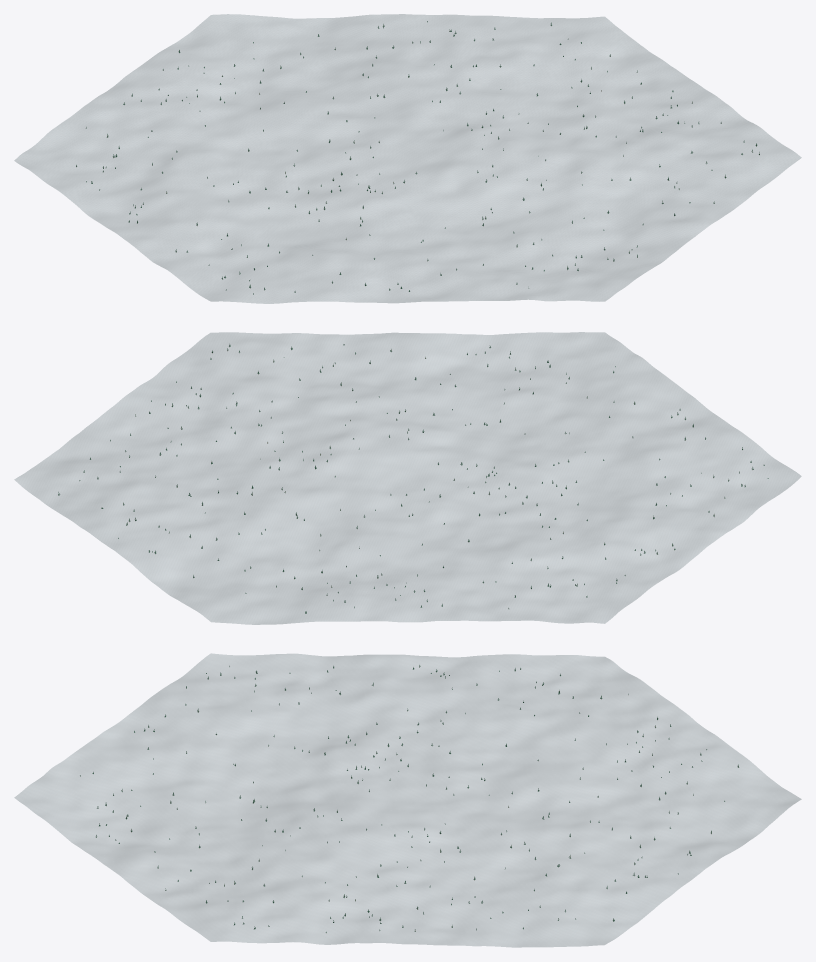
3 renders of one model, top to bottom at view 1: azimuth 30°, elevation 25°; view 2: azimuth 150°, elevation 25°; view 3: azimuth 270°, elevation 25°, orthographic.
Parts seen in each view (by area): view 1: terrain_v10, snow_pines_nonmetal; view 2: terrain_v10, snow_pines_nonmetal; view 3: terrain_v10, snow_pines_nonmetal.
Part boxes in pixels (x1=…): terrain_v10: x1=14, y1=14, x2=801, y2=303; snow_pines_nonmetal: x1=76, y1=21, x2=759, y2=294; terrain_v10: x1=14, y1=332, x2=801, y2=624; snow_pines_nonmetal: x1=58, y1=344, x2=768, y2=613; terrain_v10: x1=14, y1=653, x2=801, y2=947; snow_pines_nonmetal: x1=80, y1=665, x2=738, y2=932.
Size of the model in its own units: 4330 by 91.27 by 5000.
2 materials, 1 textured.
